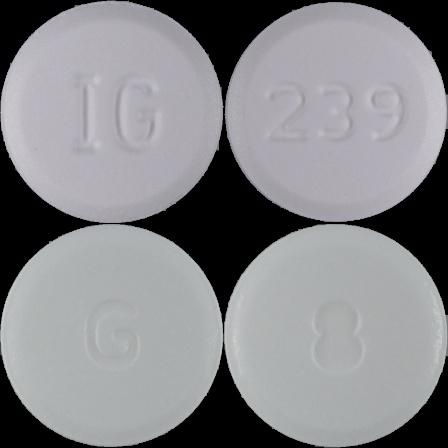63187-198: (0, 0, 224, 224)
